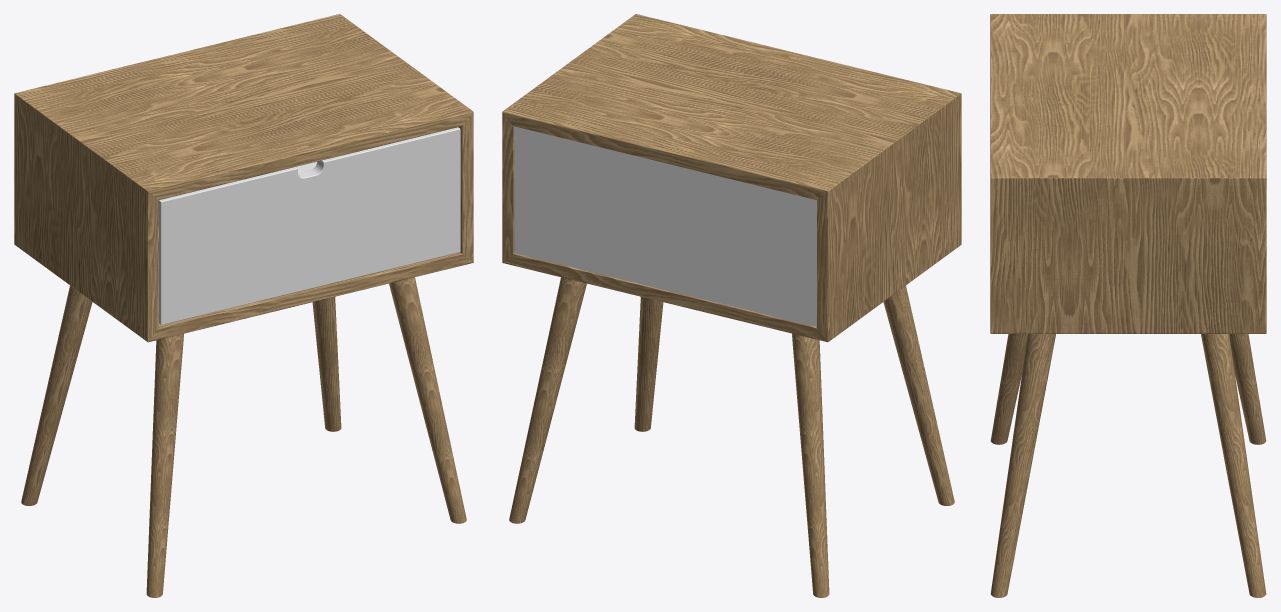
File: nightstand_modern_blaz_mraz.glb
The picture shows the model from 3 angles, left to right: view 1: azimuth 30°, elevation 25°; view 2: azimuth 150°, elevation 25°; view 3: azimuth 270°, elevation 25°; orthographic projection. The views are drawn at different scales.
Visible parts, largest first — view 1: frame.001_frame/legs_0, drawer.001_Drawer_0; view 2: frame.001_frame/legs_0, back.001__0; view 3: frame.001_frame/legs_0.
Part boxes in pixels (<box>): frame.001_frame/legs_0: <box>14,14,473,597</box>; drawer.001_Drawer_0: <box>159,127,460,324</box>; frame.001_frame/legs_0: <box>502,14,961,597</box>; back.001__0: <box>514,126,816,326</box>; frame.001_frame/legs_0: <box>990,14,1266,597</box>.
Size of the model in its own units: 45 by 54 by 32.
3 materials, 1 textured.
